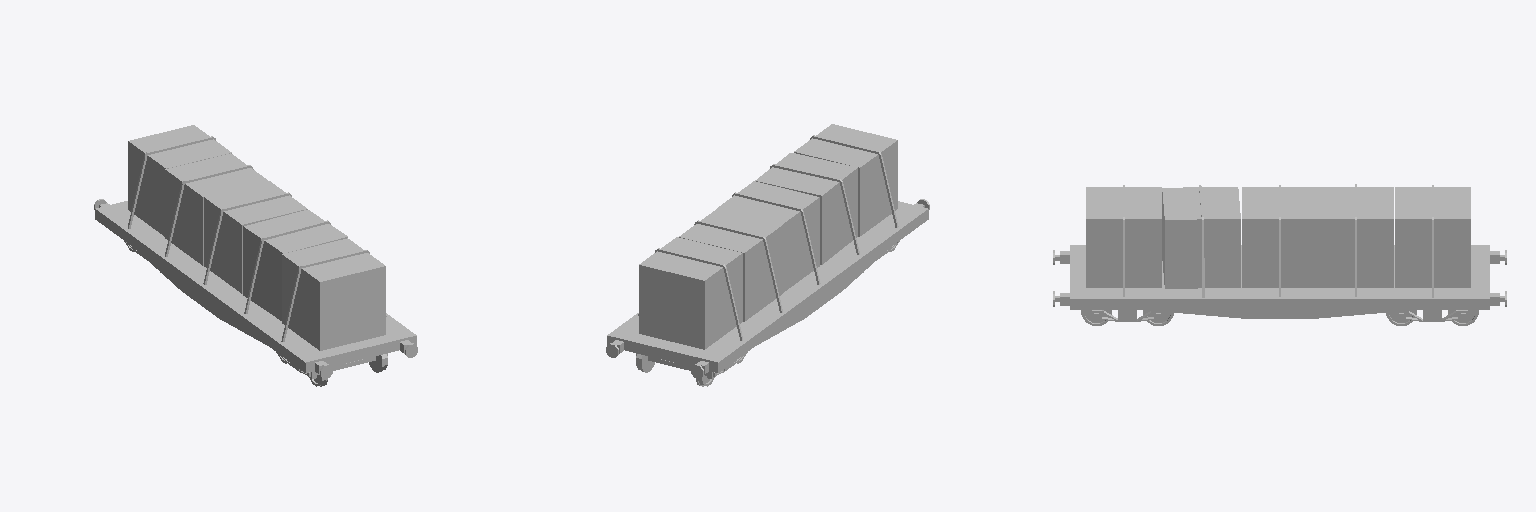
File: dlxtrains_industrial_wagons_flat_type1_loaded5.obj
3 renders of one model, left to right at view 1: azimuth 30°, elevation 25°; view 2: azimuth 150°, elevation 25°; view 3: azimuth 270°, elevation 25°, orthographic.
Visible parts, largest first — view 1: dlxtrains_industrial_wagons_flat_type1_loaded5; view 2: dlxtrains_industrial_wagons_flat_type1_loaded5; view 3: dlxtrains_industrial_wagons_flat_type1_loaded5.
Part boxes in pixels (x1,y1,x2,y2): dlxtrains_industrial_wagons_flat_type1_loaded5: (94, 125, 417, 386); dlxtrains_industrial_wagons_flat_type1_loaded5: (606, 124, 929, 386); dlxtrains_industrial_wagons_flat_type1_loaded5: (1053, 184, 1506, 325).
Bounding box in the file's own units: 16.88 × 15.98 × 59.62.